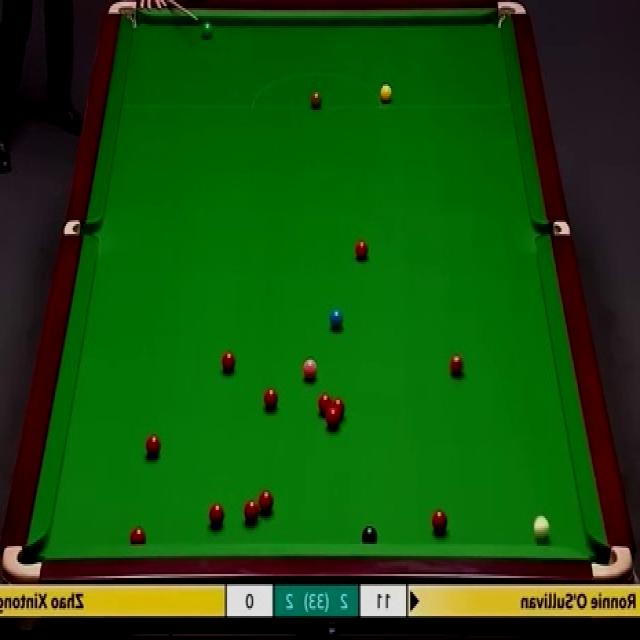black-ball: (360, 523, 378, 545)
blue-ball: (329, 308, 345, 333)
brown-ball: (310, 88, 324, 111)
green-ball: (200, 21, 215, 40)
pink-ball: (302, 354, 317, 382)
red-ball: (242, 497, 260, 528), (220, 349, 237, 378), (449, 354, 467, 381), (209, 503, 226, 529), (146, 433, 163, 458), (258, 489, 274, 515), (264, 387, 279, 412), (432, 508, 446, 534), (354, 239, 369, 262), (318, 394, 332, 418), (130, 526, 146, 546), (326, 410, 339, 430), (332, 398, 345, 418)
white-ball: (534, 514, 552, 543)
yellow-ball: (380, 83, 394, 103)
